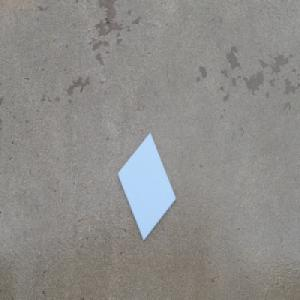PaintChip: (116, 132, 177, 242)
